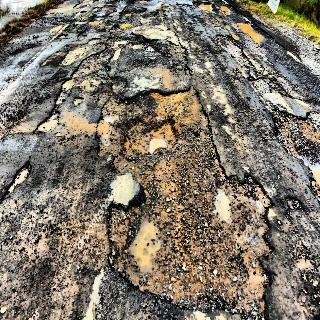pothole: (275, 110, 320, 191), (118, 113, 182, 158), (126, 217, 170, 279), (220, 19, 268, 57), (0, 159, 37, 207), (26, 111, 65, 145), (107, 34, 149, 64), (33, 13, 74, 41), (212, 185, 232, 223), (51, 75, 72, 109), (116, 7, 144, 30), (72, 38, 100, 61), (38, 56, 73, 68), (69, 0, 94, 16), (74, 86, 87, 112), (195, 0, 215, 16), (218, 0, 232, 19), (89, 19, 108, 29)
